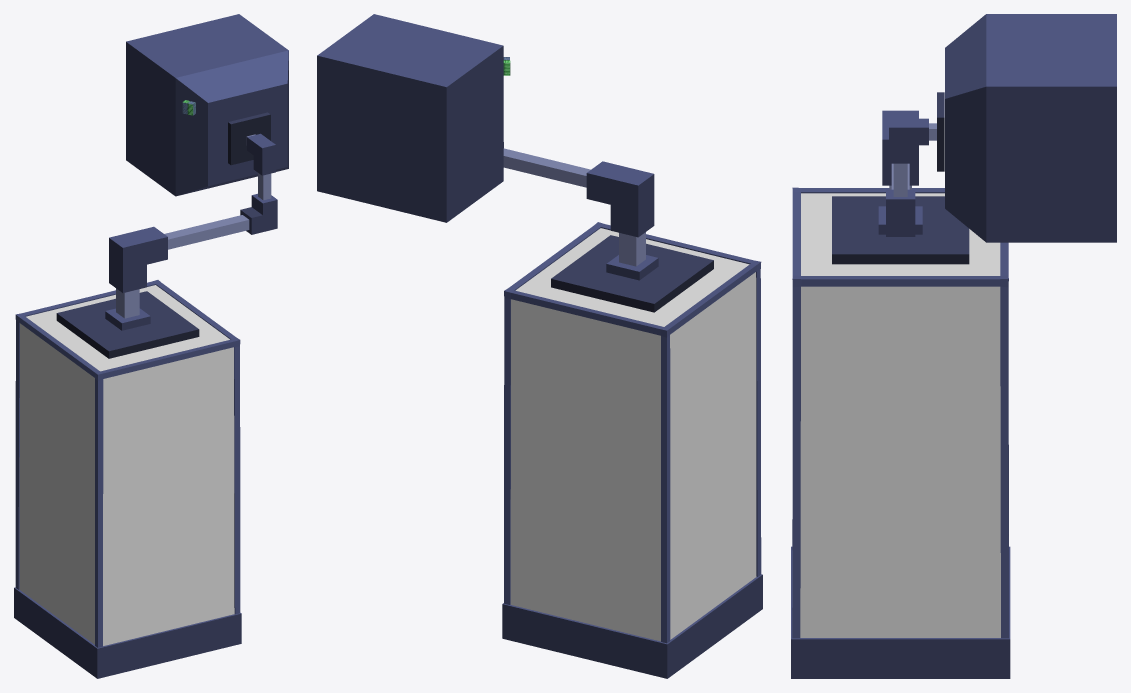
File: PlantBox1.fbx
The picture shows the model from 3 angles, left to right: view 1: azimuth 30°, elevation 25°; view 2: azimuth 150°, elevation 25°; view 3: azimuth 270°, elevation 25°; orthographic projection. The views are drawn at different scales.
Visible parts, largest first — view 1: PlantBox_Glass, Cube.009, PlantBox_Base; view 2: PlantBox_Glass, Cube.009, PlantBox_Base; view 3: PlantBox_Glass, Cube.009, PlantBox_Base.
Boxes of the visible parts, x1,y1,x2,y2 form: PlantBox_Glass: (19,285,234,645); Cube.009: (56,14,288,358); PlantBox_Base: (14,280,241,678); PlantBox_Glass: (510,228,756,641); Cube.009: (317,14,713,312); PlantBox_Base: (502,222,762,678); PlantBox_Glass: (800,193,1000,637); Cube.009: (832,14,1116,264); PlantBox_Base: (791,187,1010,678).
Size of the model in its own units: 184 by 337 by 149.
